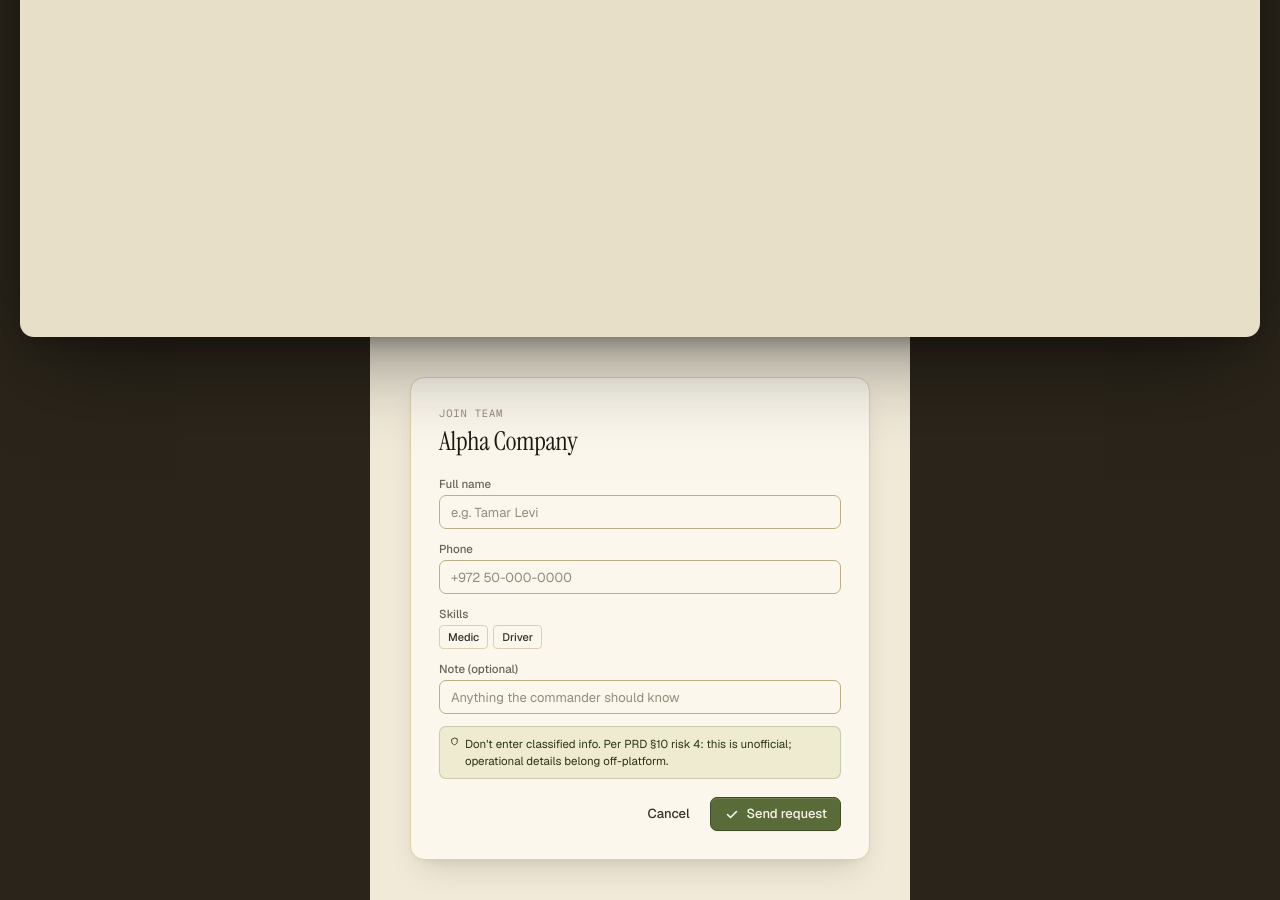
Test: JoinScreen › submits via mutateAsync with the camelCase payload and shows confirmation
(page scrolled)
Type "Tamar Levi" into the field with placeholder "e.g. Tamar Levi" at (640, 512), box [439,495,841,529]
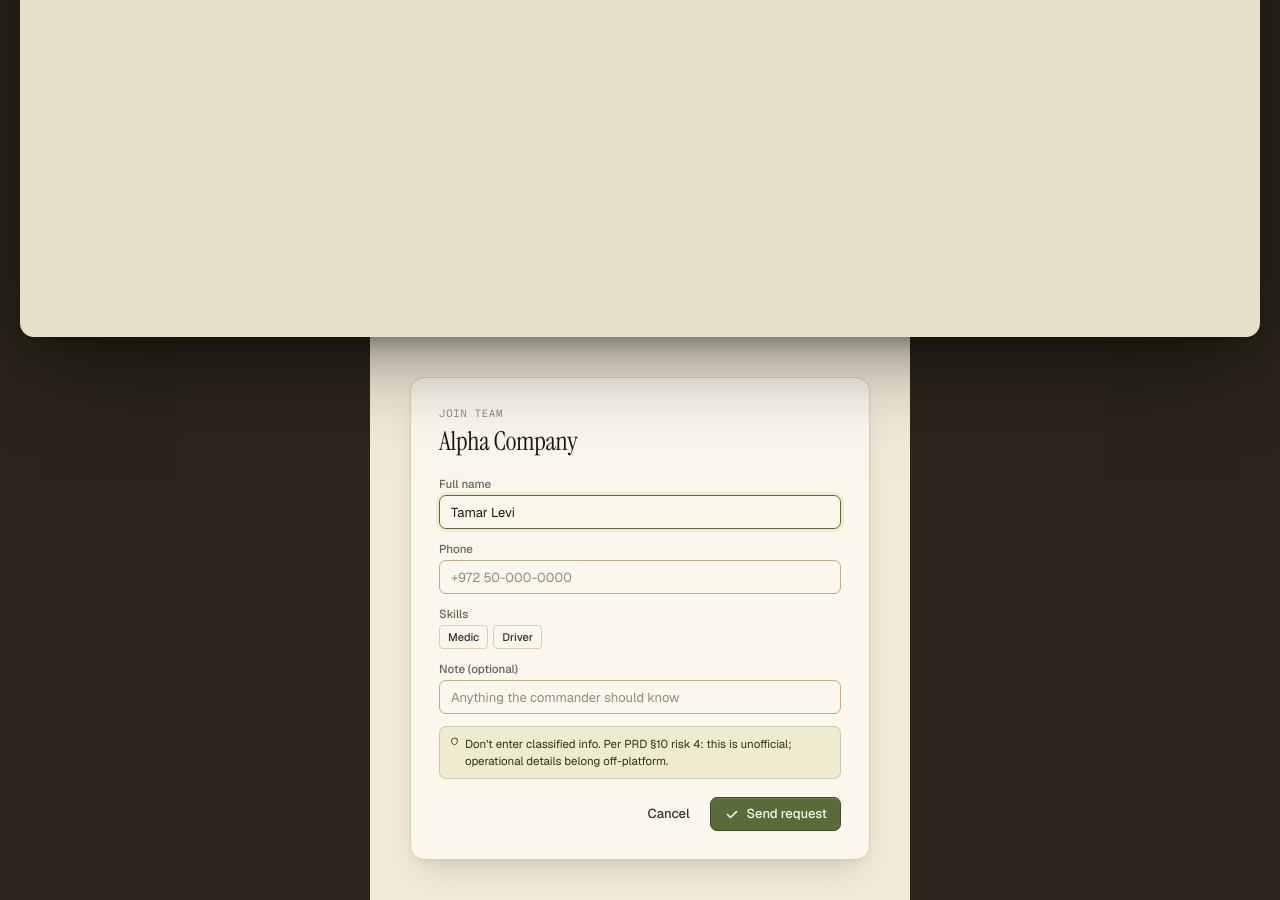
Type "+972501234567" into the field with placeholder "+972 50-000-0000" at (640, 577), box [439,560,841,594]
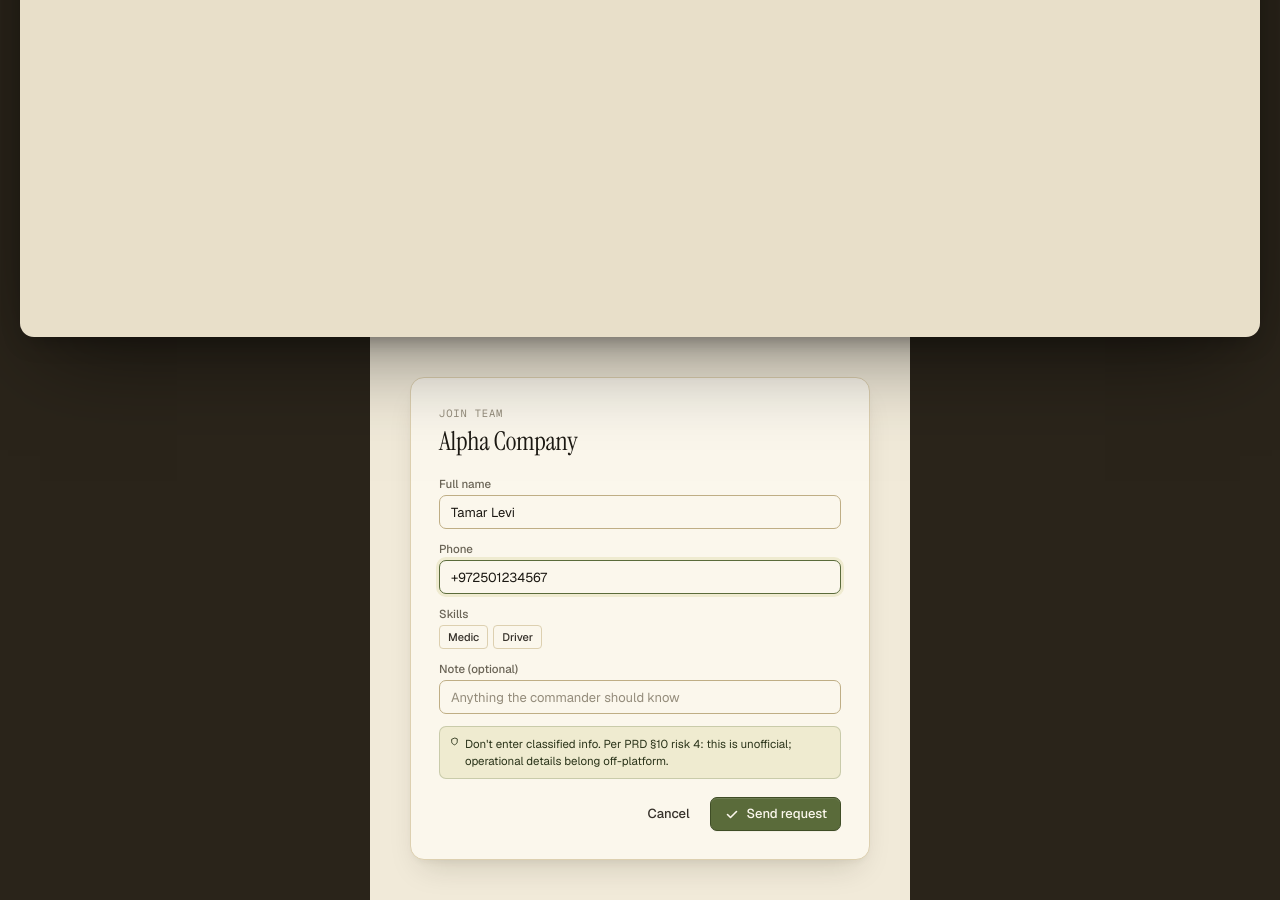
Click the button "Medic" at (464, 637), box [439,625,488,649]
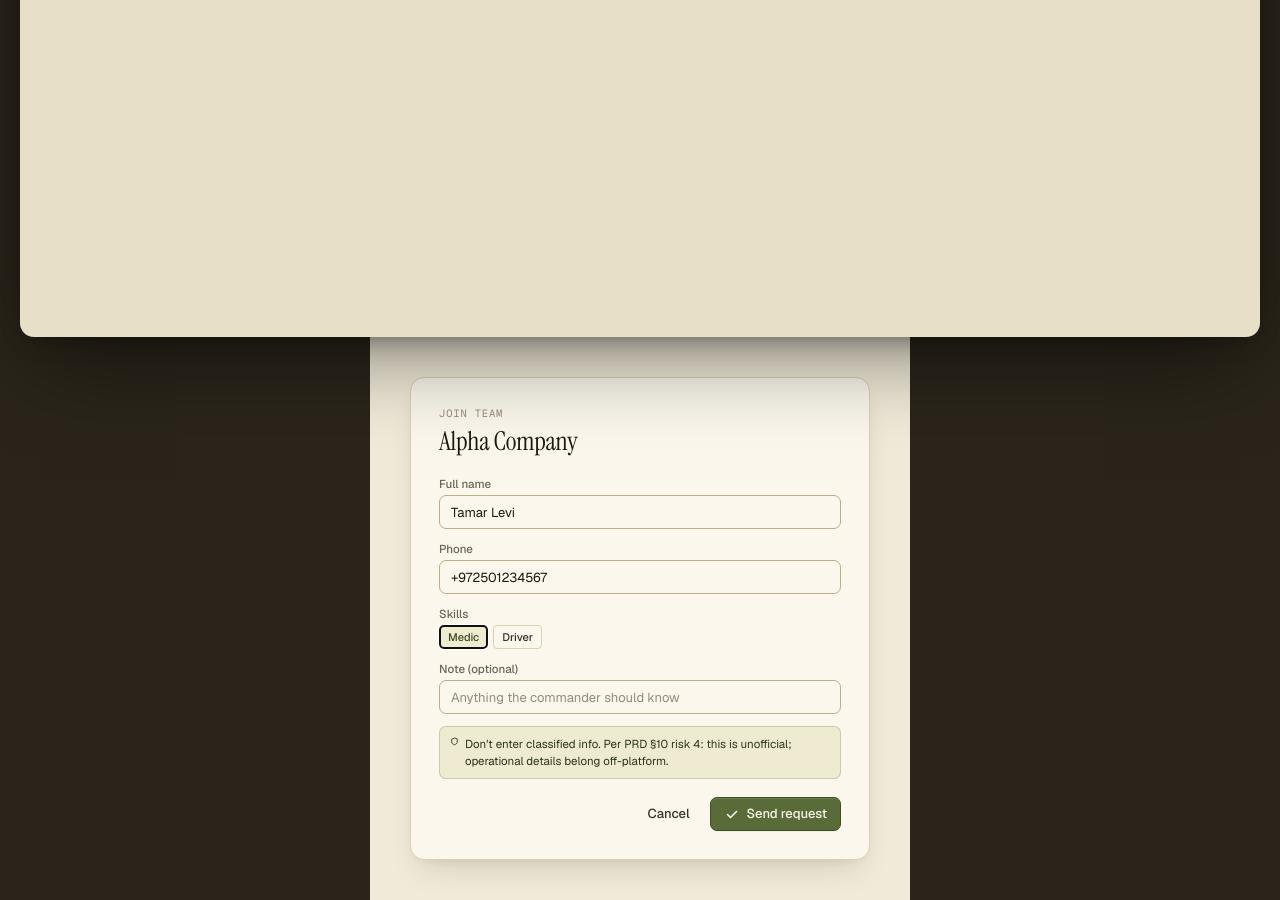
// Fill the optional note.
Type "available weekends" into the field with placeholder "Anything the commander should know" at (640, 697), box [439,680,841,714]
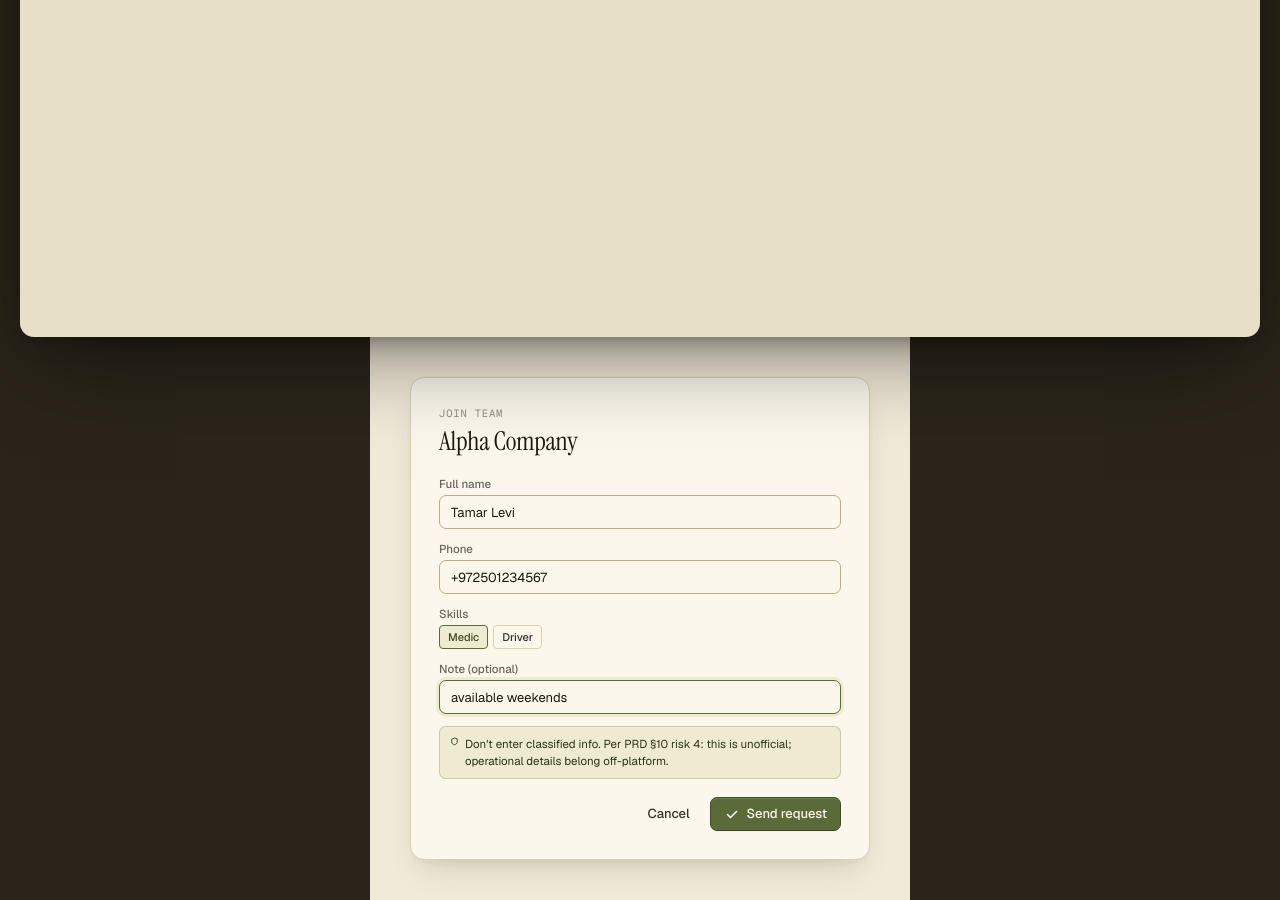
Click the button "Send request" at (775, 814), box [710,796,841,830]
(page scrolled)
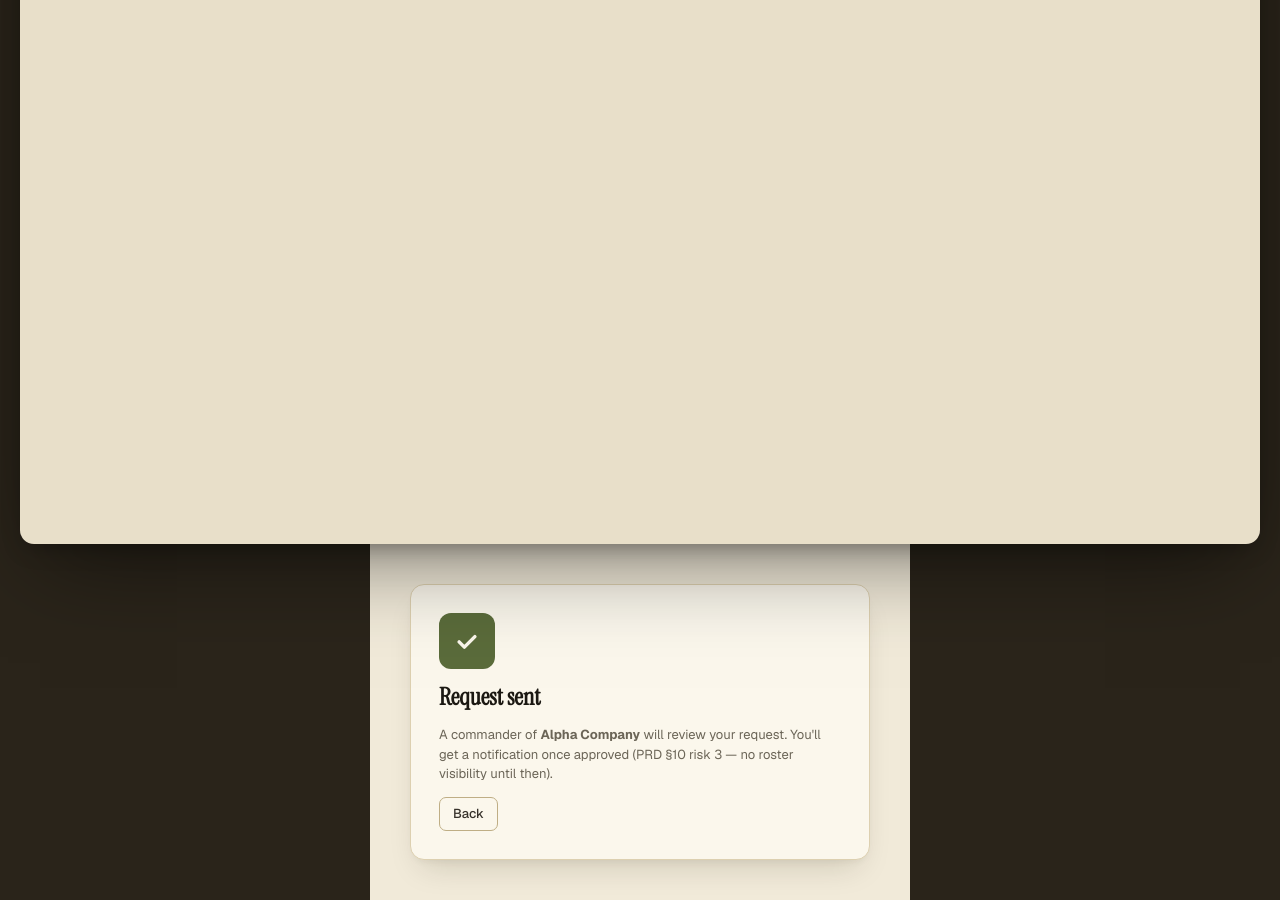
Result: the heading "Request sent" is shown at [439,681,540,712]
Result: the button "Send request" is gone
